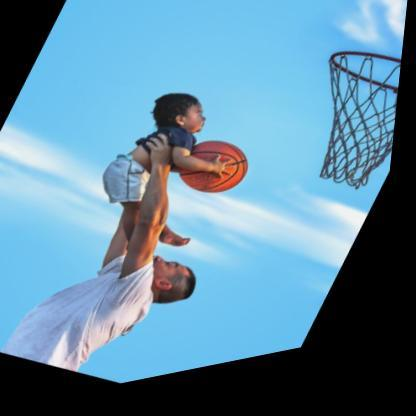basketball: (176, 133, 265, 221)
rim: (274, 46, 407, 228)
